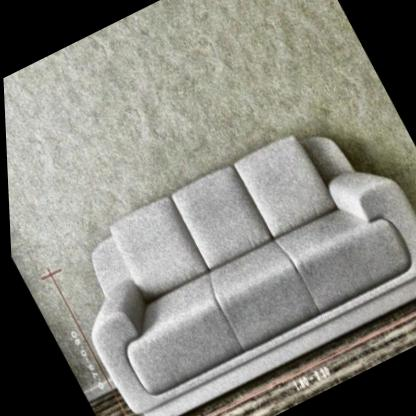Sofa: (41, 99, 416, 416)
